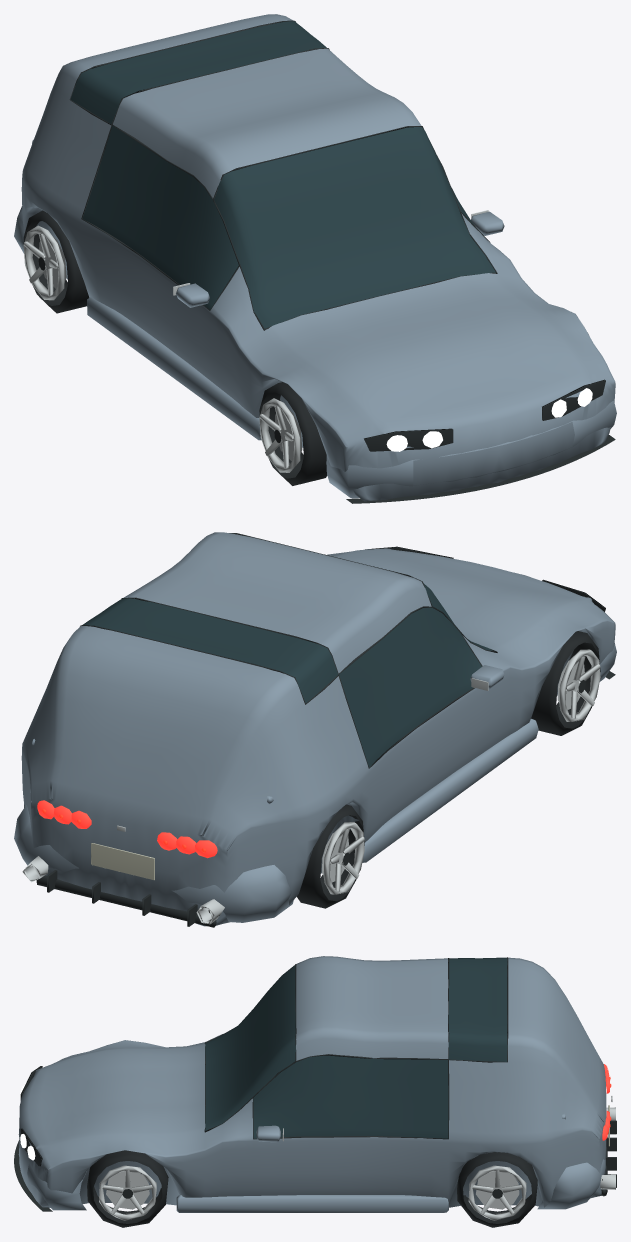
Rendered from uldessa-veldan.glb.
The picture shows the model from 3 angles, top to bottom: view 1: azimuth 30°, elevation 25°; view 2: azimuth 150°, elevation 25°; view 3: azimuth 270°, elevation 25°; orthographic projection. The views are drawn at different scales.
Visible parts, largest first — view 1: scocca, cristallo_ant, cofano, tetto, cristallo_sx, porta_sx, cristallo_post, minigonna_sx, paraurti_ant, portellone, ruota_ant_sx_gomma, ruota_post_sx_gomma (+10 smaller); view 2: scocca, portellone, tetto, cristallo_sx, cofano, porta_sx, cristallo_post, paraurti_post, minigonna_sx, ruota_ant_sx_gomma, ruota_post_sx_gomma, targa (+7 smaller); view 3: scocca, tetto, cofano, cristallo_dx, porta_dx, portellone, cristallo_ant, cristallo_post, minigonna_dx, ruota_ant_dx_gomma, ruota_post_dx_gomma, paraurti_post (+12 smaller).
Part boxes in pixels (x1,y1,x2,y2): scocca: [21, 90, 615, 501]; cristallo_ant: [214, 127, 495, 328]; cofano: [264, 273, 589, 425]; tetto: [113, 48, 421, 198]; cristallo_sx: [82, 125, 238, 309]; porta_sx: [81, 219, 224, 391]; cristallo_post: [70, 21, 326, 124]; minigonna_sx: [87, 297, 261, 440]; paraurti_ant: [326, 400, 616, 498]; portellone: [51, 14, 292, 98]; ruota_ant_sx_gomma: [259, 382, 327, 485]; ruota_post_sx_gomma: [23, 210, 89, 313]; scocca: [21, 548, 615, 926]; portellone: [46, 626, 304, 838]; tetto: [123, 532, 431, 673]; cristallo_sx: [339, 607, 481, 767]; cofano: [332, 549, 589, 652]; porta_sx: [364, 682, 500, 842]; cristallo_post: [82, 598, 338, 702]; paraurti_post: [14, 805, 293, 922]; minigonna_sx: [362, 718, 538, 862]; ruota_ant_sx_gomma: [531, 631, 600, 735]; ruota_post_sx_gomma: [296, 804, 364, 908]; targa: [91, 843, 154, 880]; scocca: [19, 1033, 606, 1207]; tetto: [296, 956, 448, 1060]; cofano: [41, 1043, 205, 1149]; cristallo_dx: [253, 1055, 448, 1138]; porta_dx: [238, 1137, 448, 1201]; portellone: [508, 957, 605, 1125]; cristallo_ant: [205, 965, 295, 1130]; cristallo_post: [448, 957, 507, 1061]; minigonna_dx: [176, 1195, 448, 1212]; ruota_ant_dx_gomma: [87, 1150, 168, 1227]; ruota_post_dx_gomma: [457, 1152, 537, 1227]; paraurti_post: [537, 1159, 605, 1209].
Size of the model in its own units: 2.37 by 1.66 by 5.
